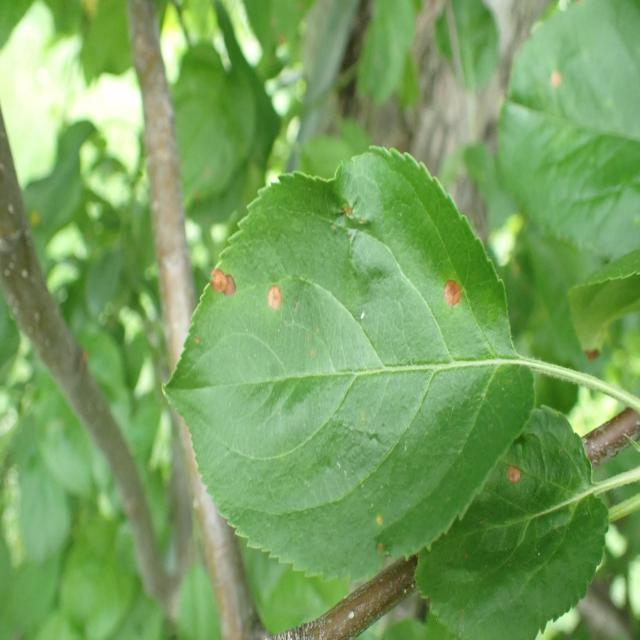frog-eye-leaf-spot: (161, 143, 536, 585), (412, 404, 611, 639)
